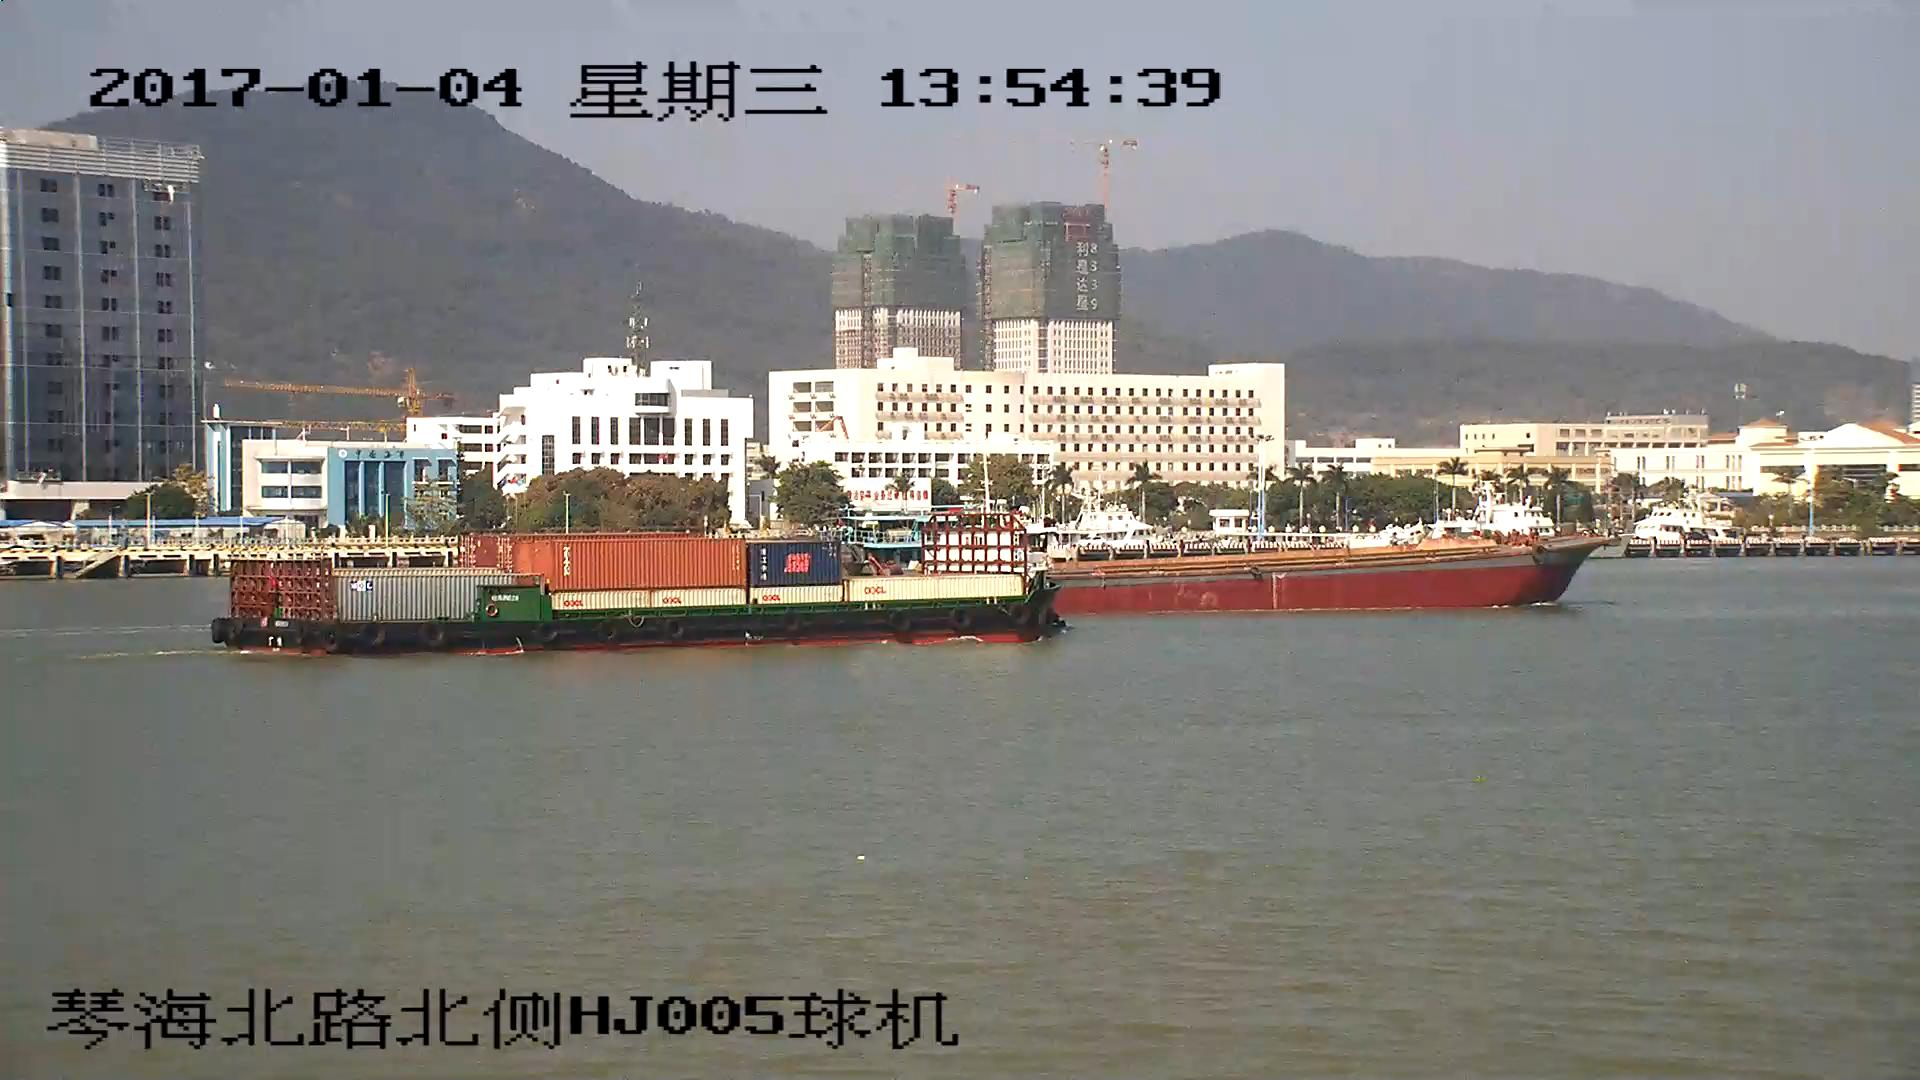bulk cargo carrier: (1056, 535, 1616, 605)
container ship: (211, 533, 1070, 654)
